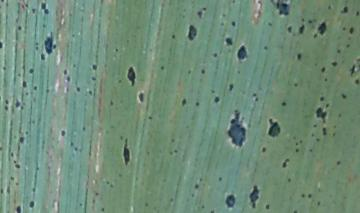tarspot: (224, 107, 248, 151), (262, 115, 286, 139), (269, 1, 295, 19), (119, 135, 132, 168), (41, 29, 57, 55), (247, 183, 262, 209), (223, 189, 237, 211), (184, 22, 199, 42), (125, 64, 138, 87), (236, 40, 248, 63), (314, 105, 329, 123), (315, 18, 327, 39), (348, 62, 358, 79), (39, 1, 51, 15), (178, 94, 189, 109), (58, 127, 69, 141), (136, 91, 147, 104), (296, 23, 307, 36), (329, 57, 340, 70), (26, 198, 37, 210), (339, 4, 350, 16), (280, 156, 291, 168), (191, 98, 203, 109), (212, 94, 222, 107), (333, 156, 343, 169), (91, 61, 100, 75), (17, 133, 26, 147), (223, 36, 234, 47), (318, 64, 329, 75), (259, 144, 269, 156), (197, 65, 207, 77), (340, 90, 350, 102), (226, 81, 235, 94), (286, 22, 294, 36), (209, 50, 219, 61), (168, 31, 177, 43), (229, 17, 237, 30), (19, 79, 29, 89), (294, 51, 304, 61), (16, 22, 25, 33), (27, 66, 36, 76), (346, 26, 355, 36), (73, 84, 82, 94), (13, 161, 22, 171), (14, 202, 22, 213), (280, 98, 288, 109), (321, 125, 328, 137), (14, 98, 21, 110), (318, 94, 326, 104), (352, 77, 360, 87), (4, 98, 12, 107)
